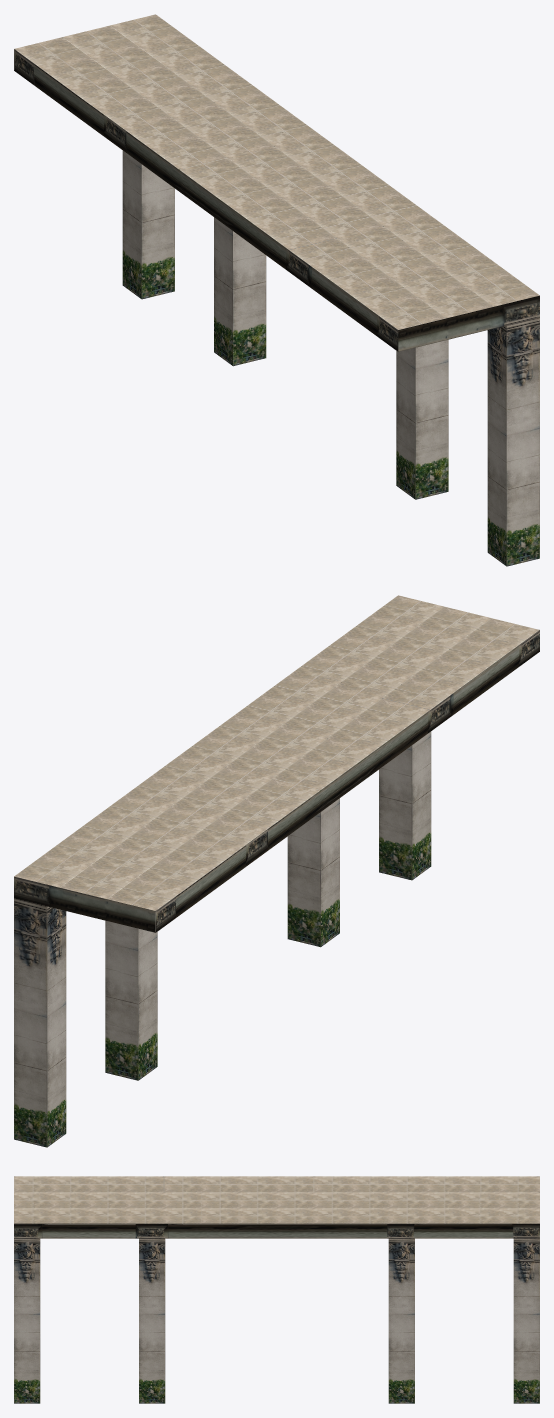
The model's file is balcony.fbx.
The picture shows the model from 3 angles, top to bottom: view 1: azimuth 30°, elevation 25°; view 2: azimuth 150°, elevation 25°; view 3: azimuth 270°, elevation 25°; orthographic projection. The views are drawn at different scales.
Parts seen in each view (by area): view 1: Cube; view 2: Cube; view 3: Cube.
Boxes of the visible parts, box(x1,y1,x2,y2) form: Cube: box(14, 14, 539, 566); Cube: box(14, 595, 539, 1147); Cube: box(14, 1176, 539, 1403).
Size of the model in its own units: 291 by 515 by 1364.
